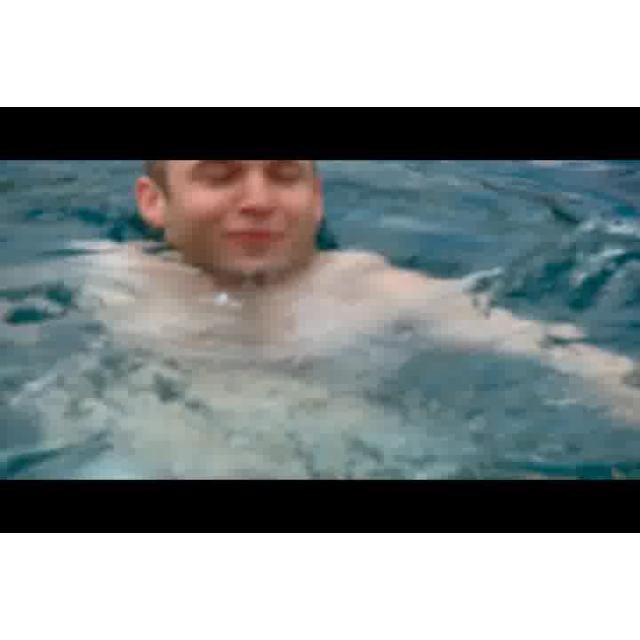human: (124, 157, 620, 392)
